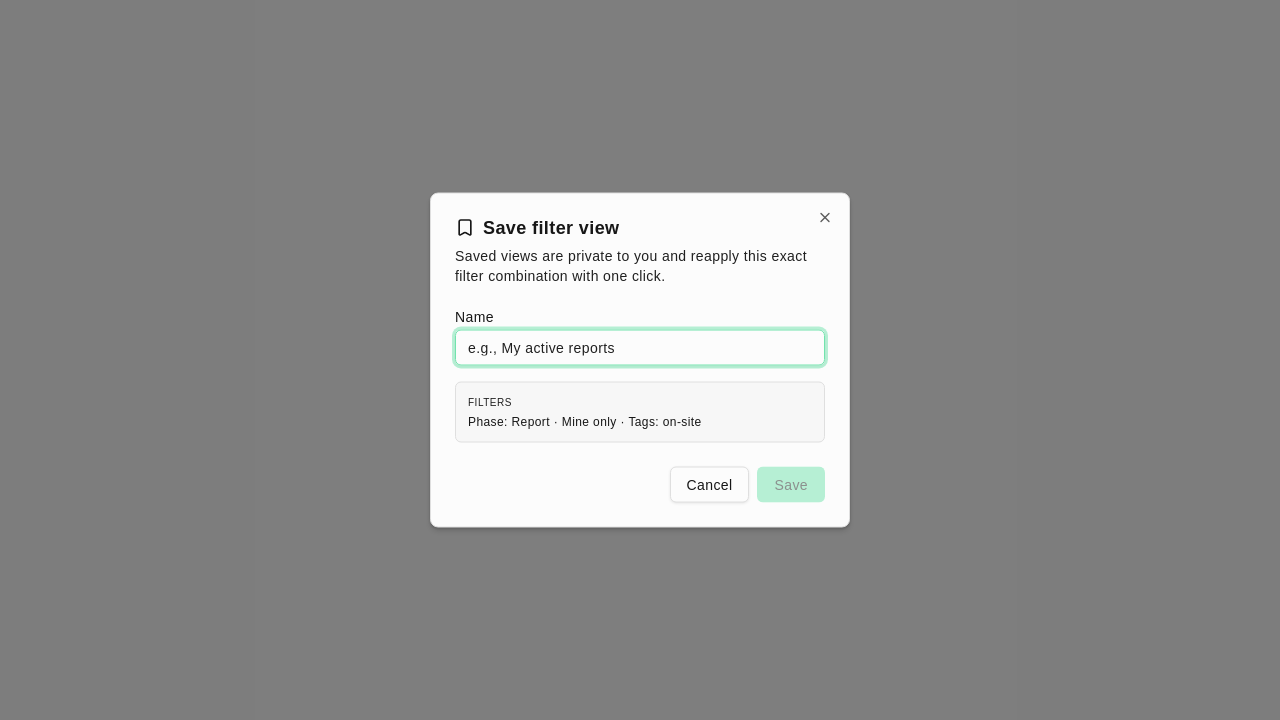
Test: <SaveViewDialog> › disables Save until a name is entered
Expected: the button "Save" is disabled, [758, 466, 825, 502]
Type "My View" into the field labelled "Name" at (640, 348), box [455, 330, 825, 366]
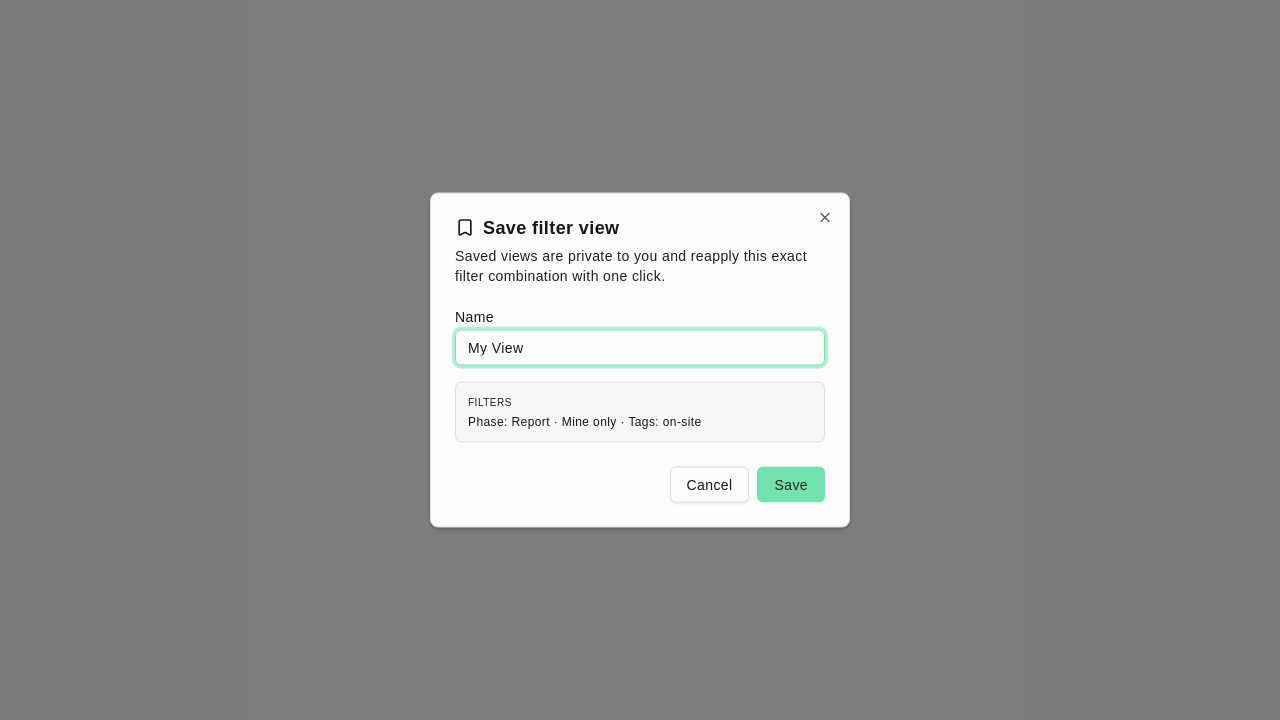
Now the button "Save" is enabled, box [758, 466, 825, 502]
